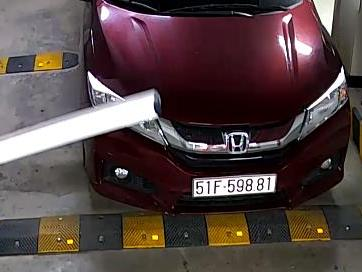number: (192, 172, 276, 197)
